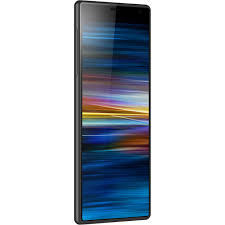sony: (71, 1, 153, 222)
